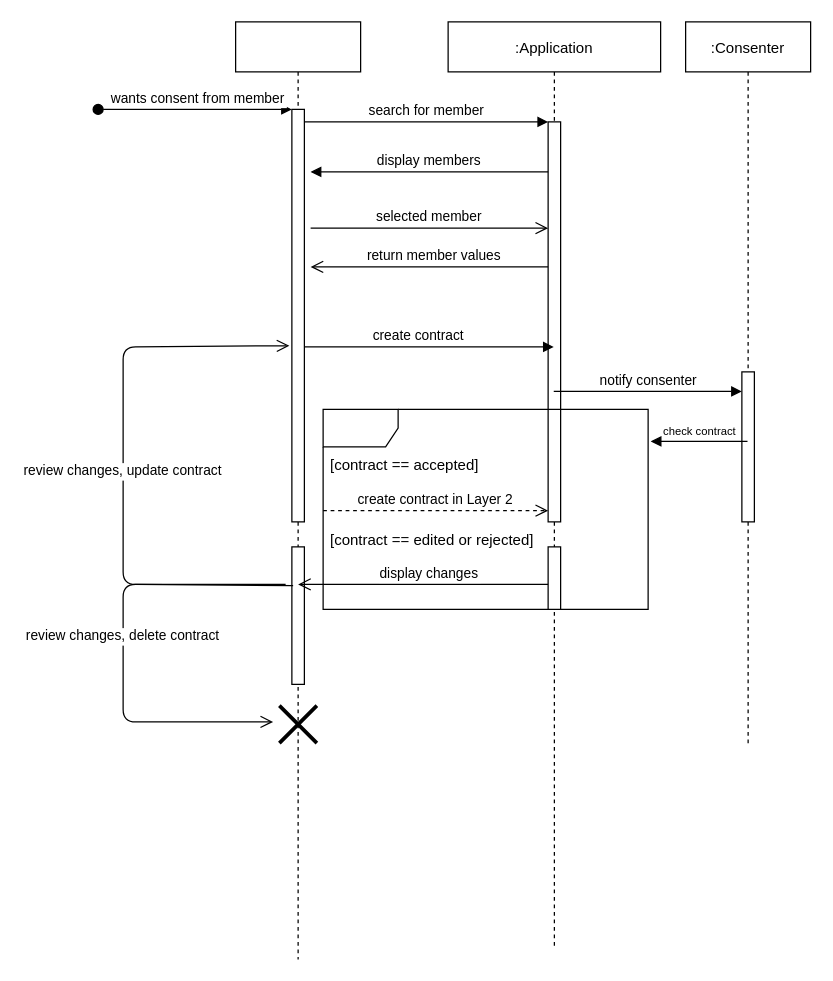
This 833x981 diagram has some shape labels left out. The shapes that lost their labels are listed below. From the top down, each one's box as (x1, y1, x2, y2) in pixels, then its label:
(234, 21, 361, 959): :Proposer
(322, 408, 648, 609): alt
